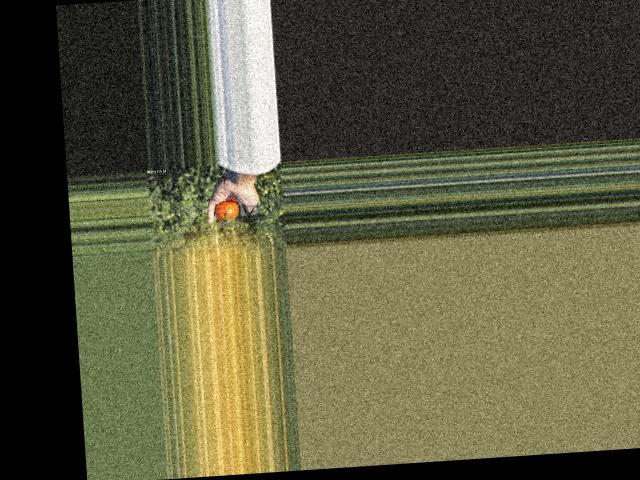tomato: (213, 200, 238, 222)
